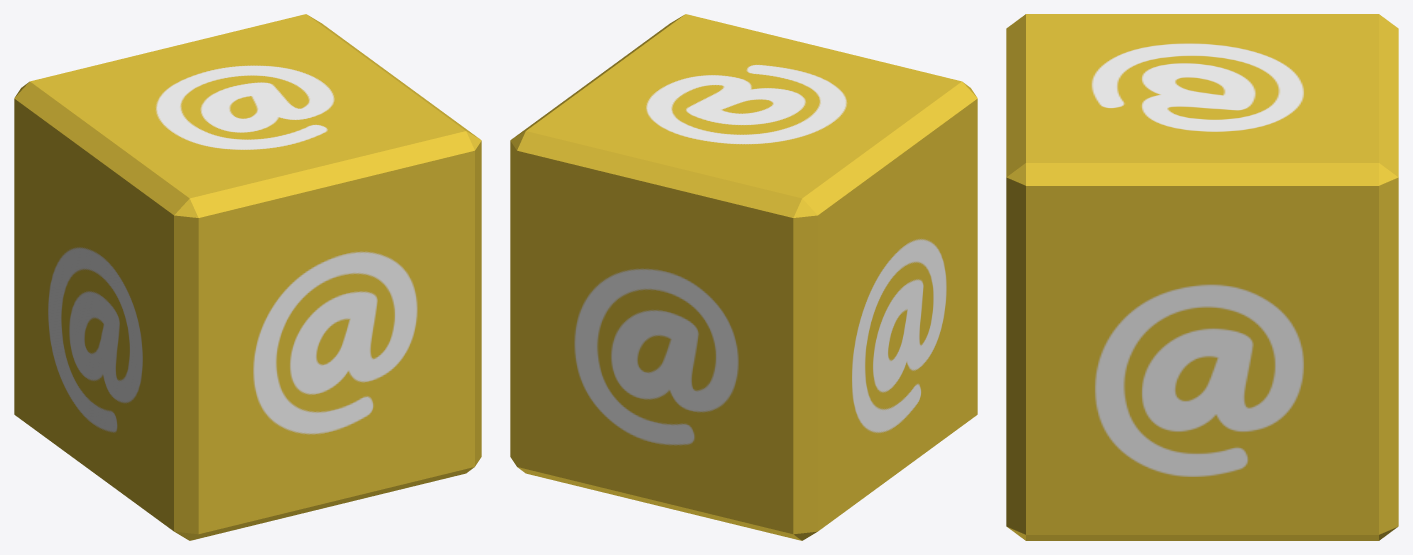
File: HitBoxContact.glb
3 views of the same model, side by side, from view 1: azimuth 30°, elevation 25°; view 2: azimuth 150°, elevation 25°; view 3: azimuth 270°, elevation 25° (orthographic). The views are drawn at different scales.
Visible parts, largest first — view 1: Cube; view 2: Cube; view 3: Cube.
Part boxes in pixels (x1,y1,x2,y2): Cube: (14,14,481,540); Cube: (510,14,977,540); Cube: (1006,14,1398,540).
Bounding box in the file's own units: 2 × 2.13 × 2.
1 material, 1 textured.
